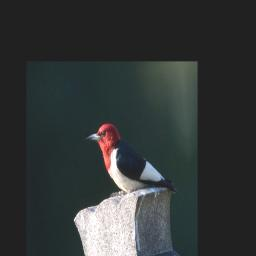Woodpecker: (83, 106, 182, 218)
